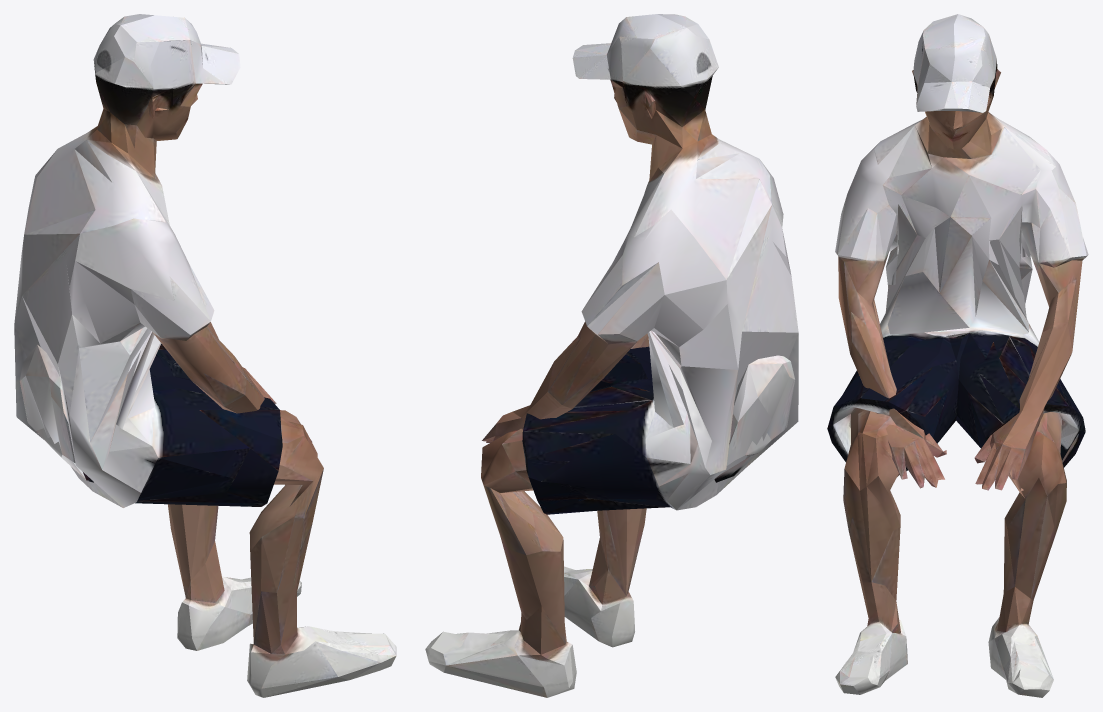
File: crowd-sp-3.glb
3 renders of one model, left to right at view 1: azimuth 30°, elevation 25°; view 2: azimuth 150°, elevation 25°; view 3: azimuth 270°, elevation 25°, orthographic. The views are drawn at different scales.
Visible parts, largest first — view 1: char1; view 2: char1; view 3: char1.
Boxes of the visible parts, box(x1,y1,x2,y2) form: char1: box(14, 14, 396, 697); char1: box(425, 14, 798, 697); char1: box(827, 14, 1088, 697).
Bounding box in the file's own units: 0.6609 × 1.38 × 0.5386.
Materials: 1 (1 with a texture image).
